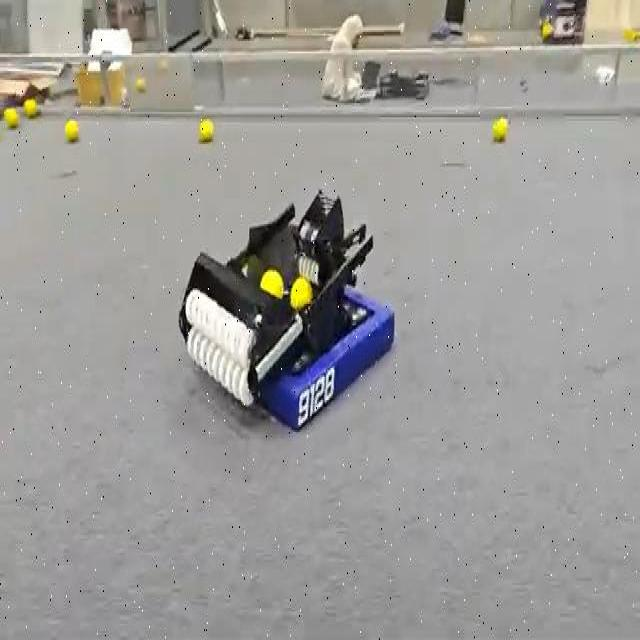Fuel: (289, 278, 312, 310), (260, 269, 284, 299), (260, 268, 283, 297), (492, 118, 509, 142), (199, 119, 214, 142), (4, 107, 19, 128), (65, 119, 78, 141), (23, 98, 38, 117), (24, 98, 38, 117), (136, 76, 146, 92), (135, 76, 145, 90)
